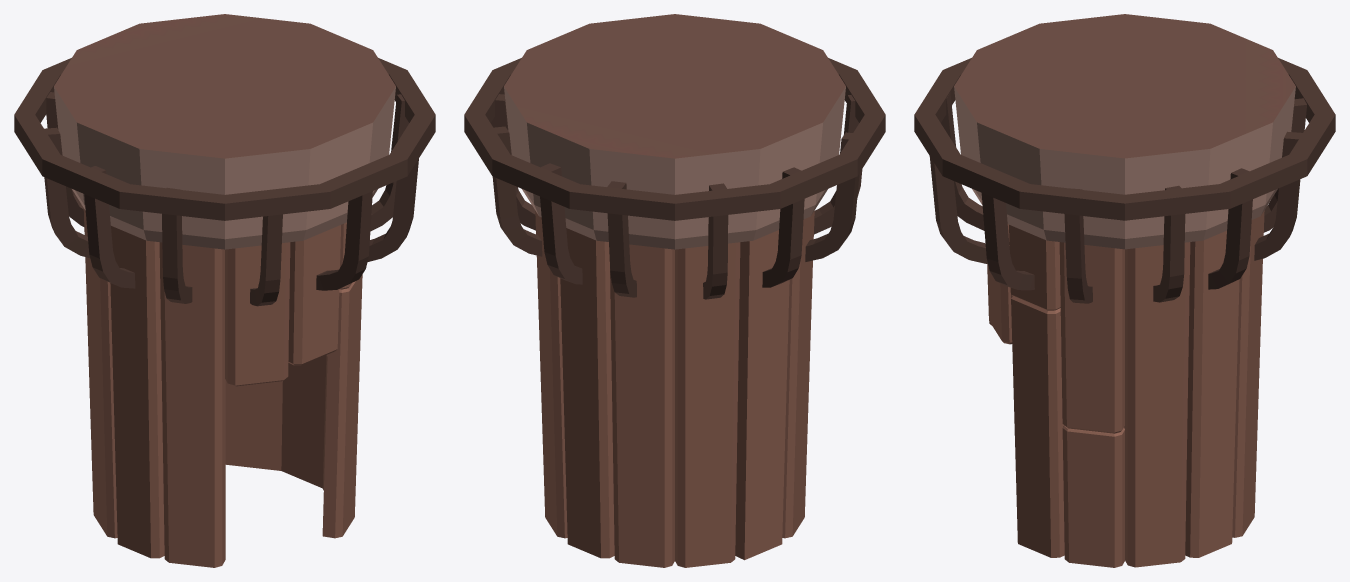
File: mask.fbx
3 renders of one model, left to right at view 1: azimuth 30°, elevation 25°; view 2: azimuth 150°, elevation 25°; view 3: azimuth 270°, elevation 25°, orthographic.
Visible parts, largest first — view 1: mask; view 2: mask; view 3: mask.
Part boxes in pixels (x1,y1,x2,y2): mask: (14, 14, 435, 567); mask: (464, 14, 885, 567); mask: (914, 14, 1335, 567).
Size of the model in its own units: 191 by 214 by 191.
